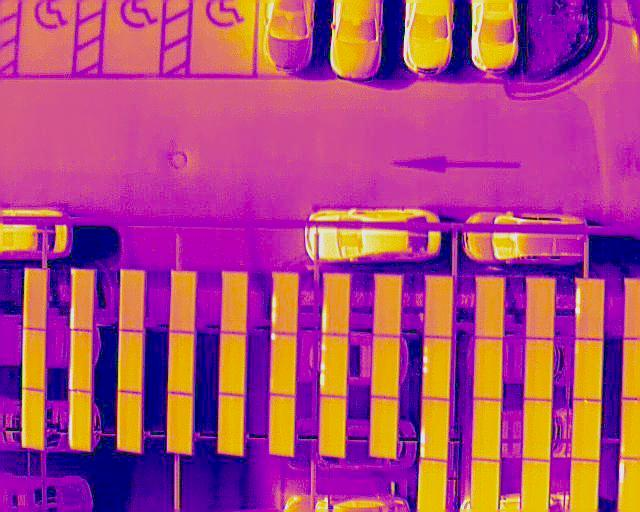Cell: (270, 332, 296, 395)
Cell-Multi: (423, 335, 451, 400), (321, 334, 348, 397)
No-Anomaly: (572, 398, 602, 461), (525, 339, 555, 400), (523, 398, 553, 459), (425, 276, 454, 339), (475, 338, 504, 400), (574, 338, 603, 399), (219, 331, 247, 394), (373, 334, 400, 399), (476, 277, 504, 339), (526, 278, 554, 340), (222, 271, 249, 334), (374, 276, 402, 336), (372, 396, 398, 460), (218, 394, 245, 455), (319, 396, 346, 457), (474, 399, 501, 460), (171, 270, 197, 333), (168, 332, 194, 394), (121, 269, 146, 332), (270, 392, 294, 457), (119, 330, 144, 392), (571, 460, 600, 512), (168, 394, 193, 454), (118, 392, 143, 451), (24, 270, 48, 331), (23, 330, 47, 391), (521, 460, 549, 512), (472, 461, 500, 512), (22, 389, 45, 450)
Unclassified: (575, 277, 605, 338), (420, 400, 449, 461), (323, 272, 350, 334), (273, 273, 300, 334), (70, 269, 94, 332), (70, 329, 94, 392), (69, 390, 91, 451)
